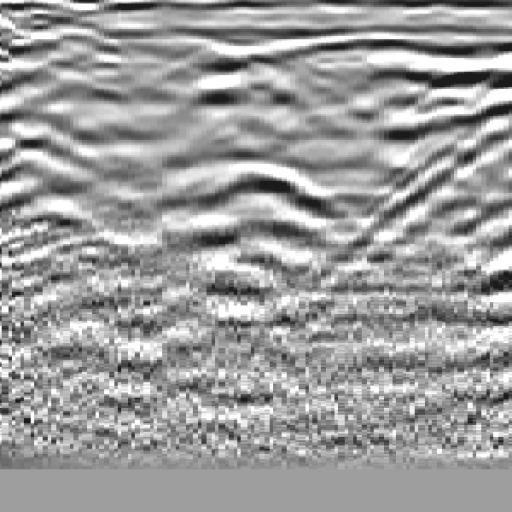metalic: (175, 45, 332, 336)
nonmetalic: (400, 42, 512, 298)
